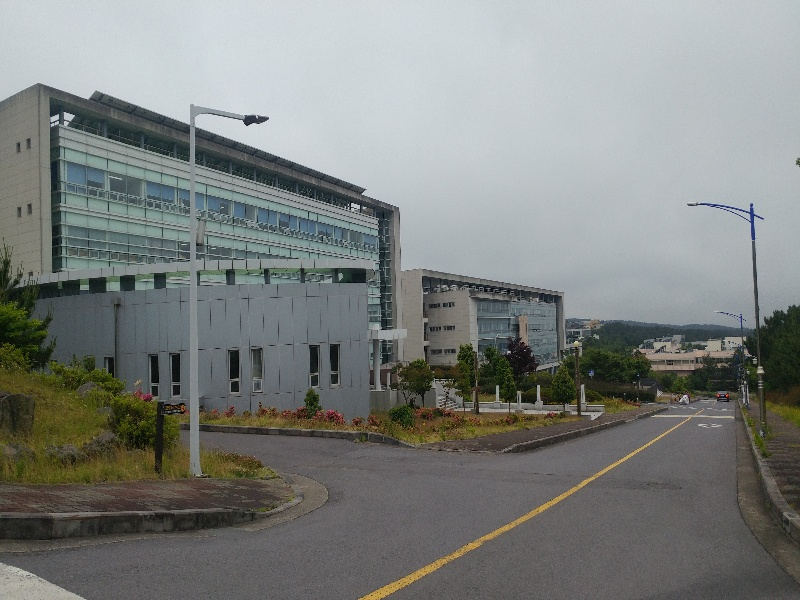College of Marine Science: (7, 98, 410, 416), (30, 122, 397, 333)
Engineering College Building 4: (420, 275, 562, 395), (433, 290, 559, 364)
